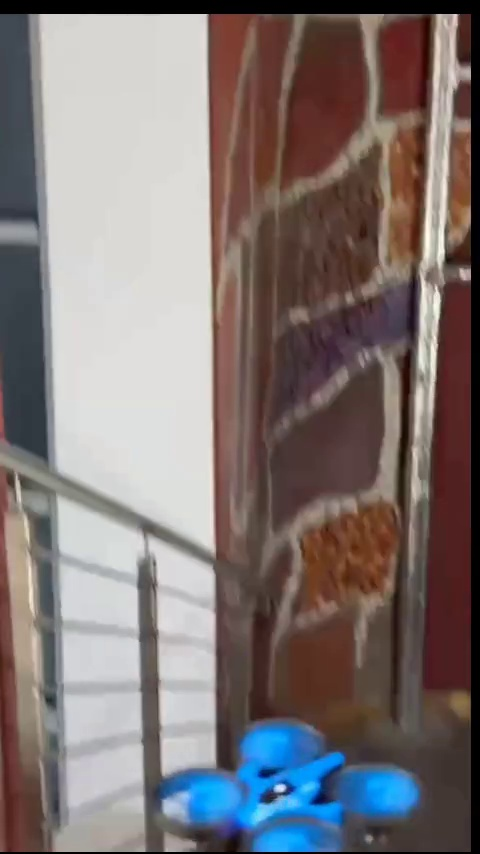drone: (162, 716, 430, 854)
